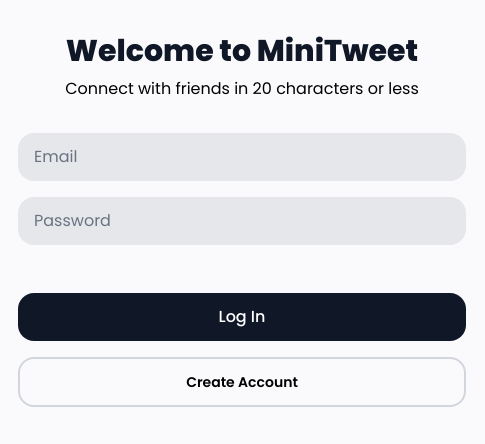
Scenario: LoginPage › shows validation errors when inputs are empty
The image size is (485, 444).
Click the button "Log In": x=242, y=317 [18, 293, 466, 341]
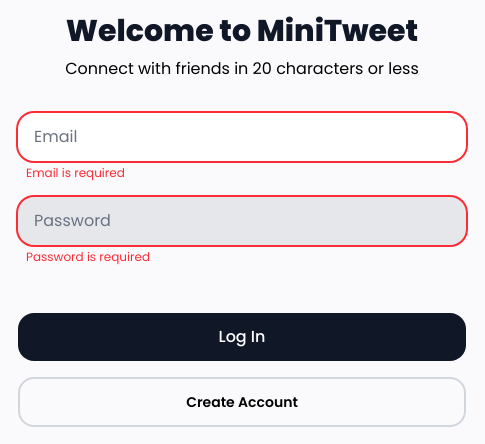
Now the text "Email is required" is shown, box [26, 164, 125, 181]
Now the text "Password is required" is shown, box [26, 248, 150, 265]
